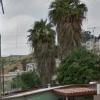Palm tree: (21, 0, 88, 76)
